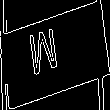M_S: (38, 26, 72, 84)
